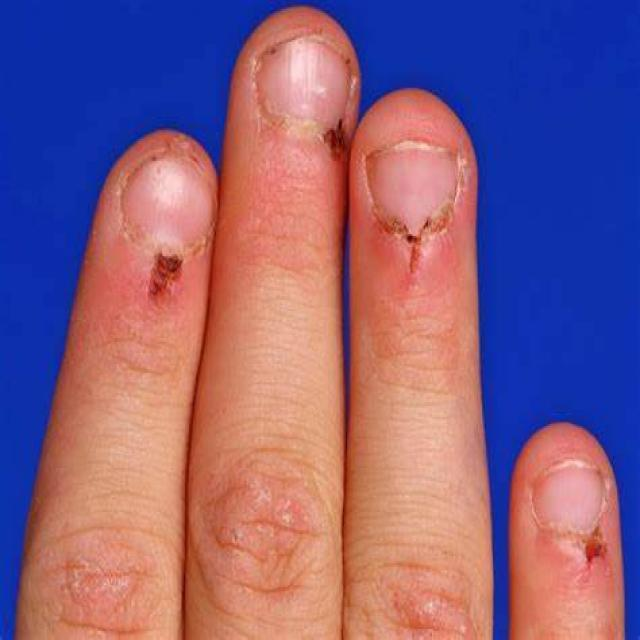Fingernail: (257, 38, 350, 133), (367, 143, 454, 239), (125, 155, 212, 250), (534, 462, 603, 534)
